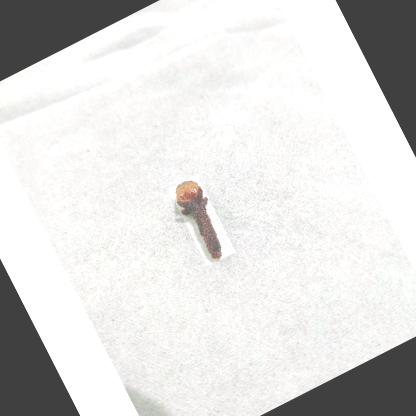baik: (176, 180, 223, 261)
